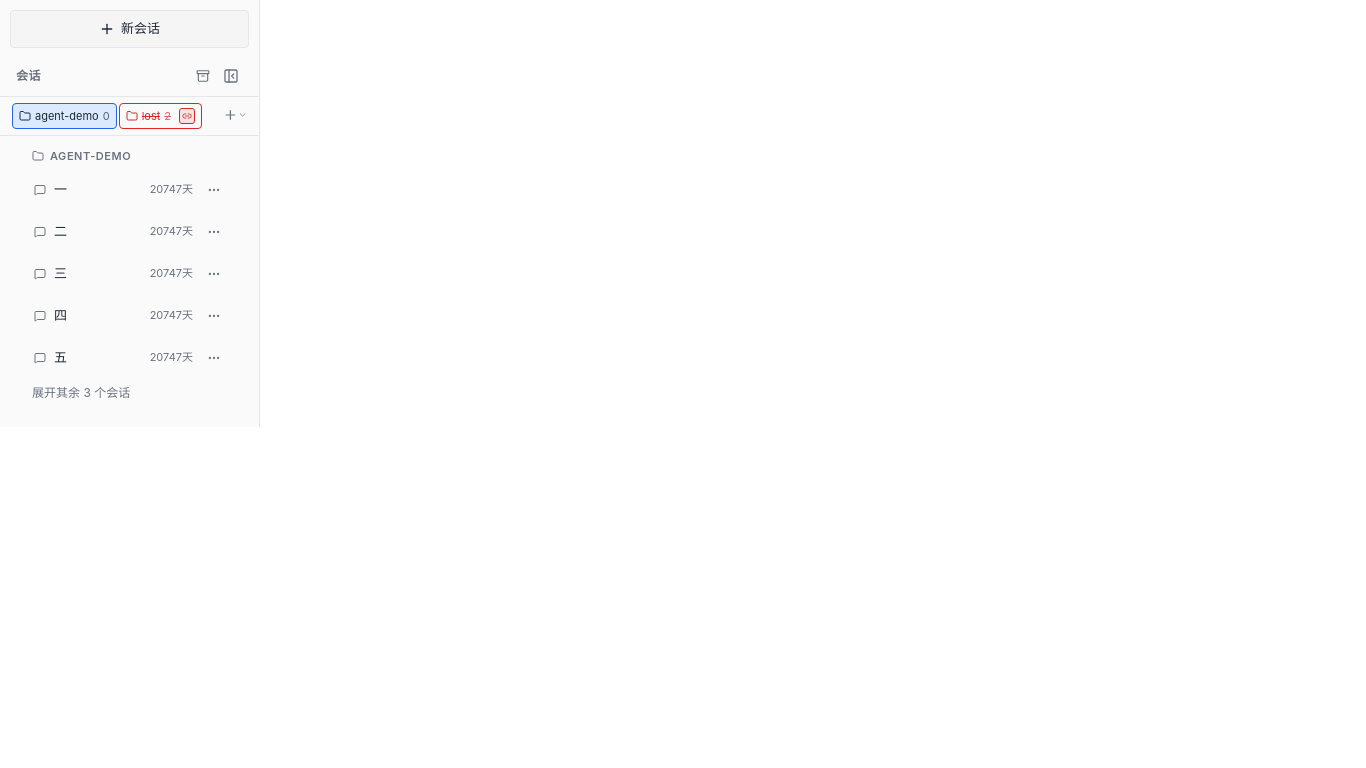
Test: Sidebar 会话管理 › T9: missing_dir workspace 显示「重新连接」按钮，点击弹 picker
Click the button with test id "workspace-reconnect-lost". click: (187, 116)
box: [179,108,195,124]
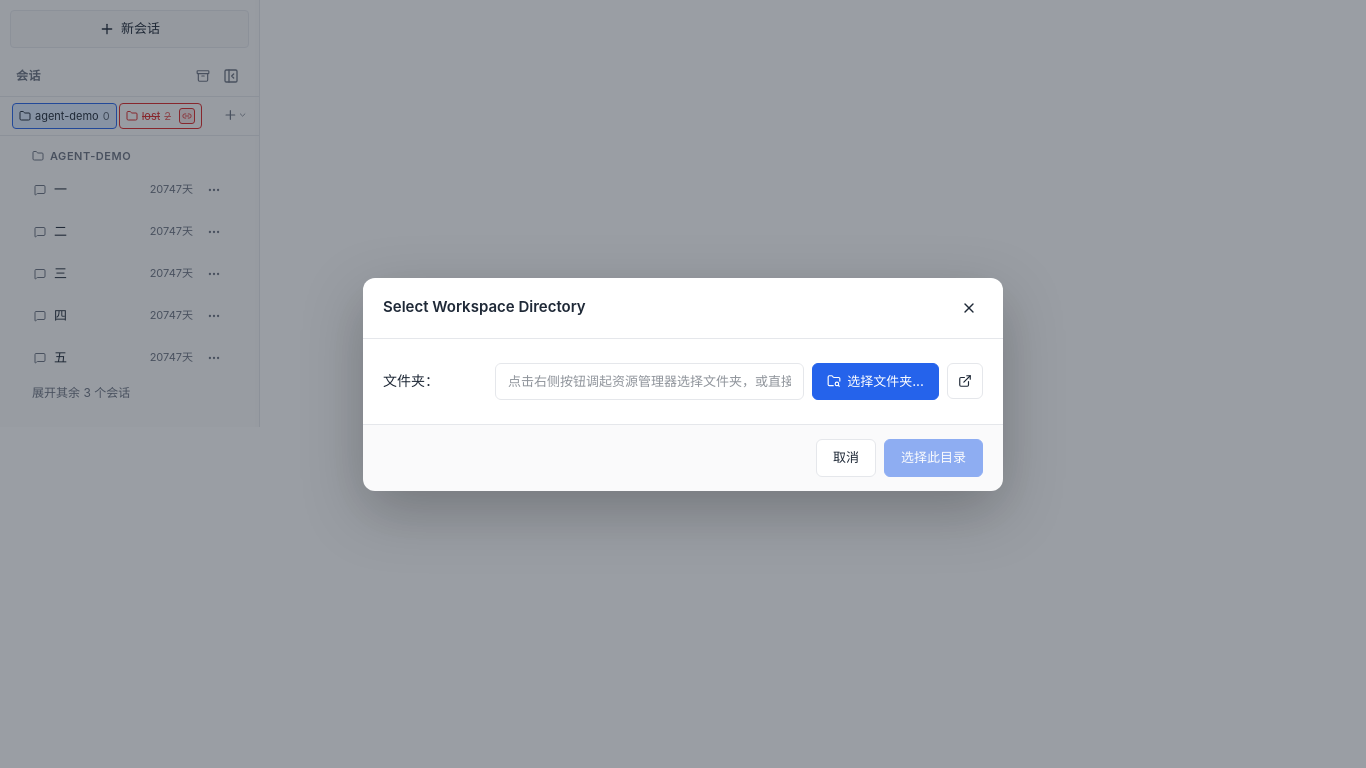
Expected: the dialog named "选择工作区目录" is shown
